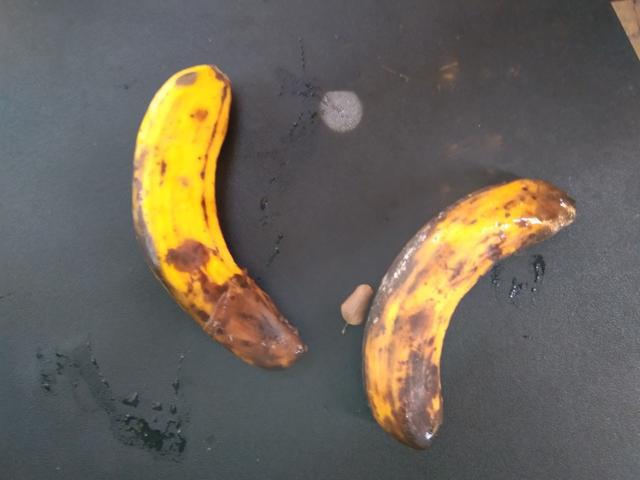rotten: (338, 157, 572, 446), (117, 42, 303, 357)
